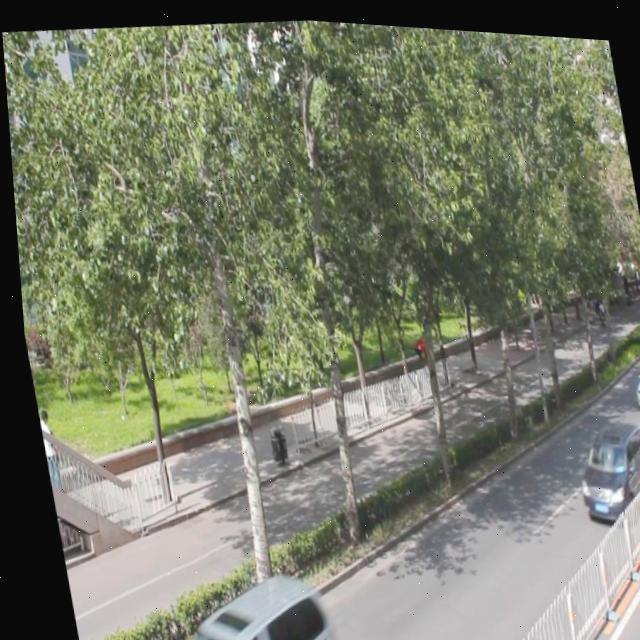car: (161, 562, 329, 640), (559, 405, 640, 518), (621, 345, 640, 404)
